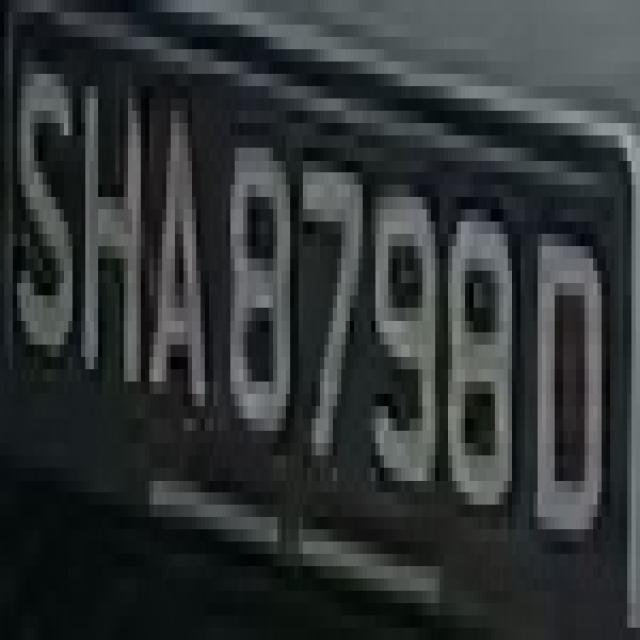7: (286, 123, 363, 505)
8: (226, 74, 299, 492), (448, 184, 508, 554)
9: (363, 160, 448, 542)
A: (145, 98, 218, 456)
D: (525, 222, 614, 590)
H: (68, 62, 154, 443)
S: (9, 0, 90, 406)
